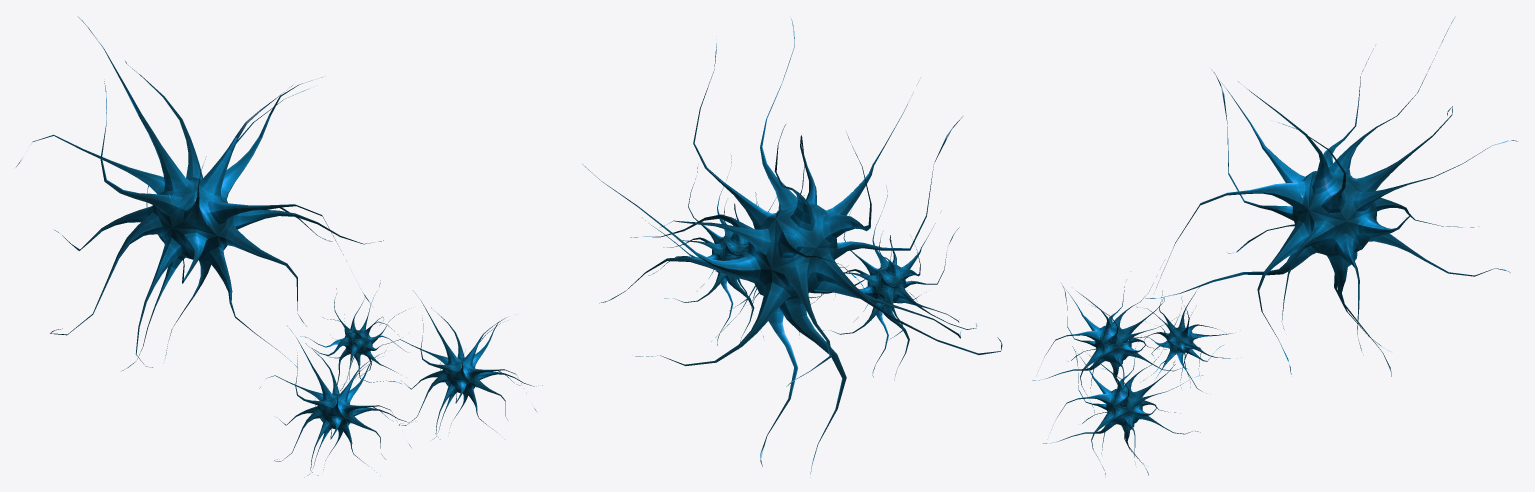
The model's file is neuro.dae.
The picture shows the model from 3 angles, left to right: view 1: azimuth 30°, elevation 25°; view 2: azimuth 150°, elevation 25°; view 3: azimuth 270°, elevation 25°; orthographic projection. The views are drawn at different scales.
Parts seen in each view (by area): view 1: GeoSphere03, GeoSphere02, GeoSphere04, GeoSphere01; view 2: GeoSphere03, GeoSphere04, GeoSphere02; view 3: GeoSphere03, GeoSphere02, GeoSphere04, GeoSphere01.
Boxes of the visible parts, x1=… form: GeoSphere03: x1=16, y1=17, x2=383, y2=370; GeoSphere02: x1=385, y1=291, x2=542, y2=439; GeoSphere04: x1=259, y1=326, x2=415, y2=477; GeoSphere01: x1=300, y1=280, x2=409, y2=391; GeoSphere03: x1=581, y1=18, x2=1002, y2=477; GeoSphere04: x1=811, y1=186, x2=977, y2=380; GeoSphere02: x1=642, y1=155, x2=821, y2=349; GeoSphere03: x1=1145, y1=18, x2=1517, y2=376; GeoSphere02: x1=1043, y1=324, x2=1202, y2=475; GeoSphere04: x1=1032, y1=260, x2=1188, y2=412; GeoSphere01: x1=1128, y1=285, x2=1240, y2=393.
Size of the model in its own units: 407 by 441 by 357.
Materials: 1 (1 with a texture image).
